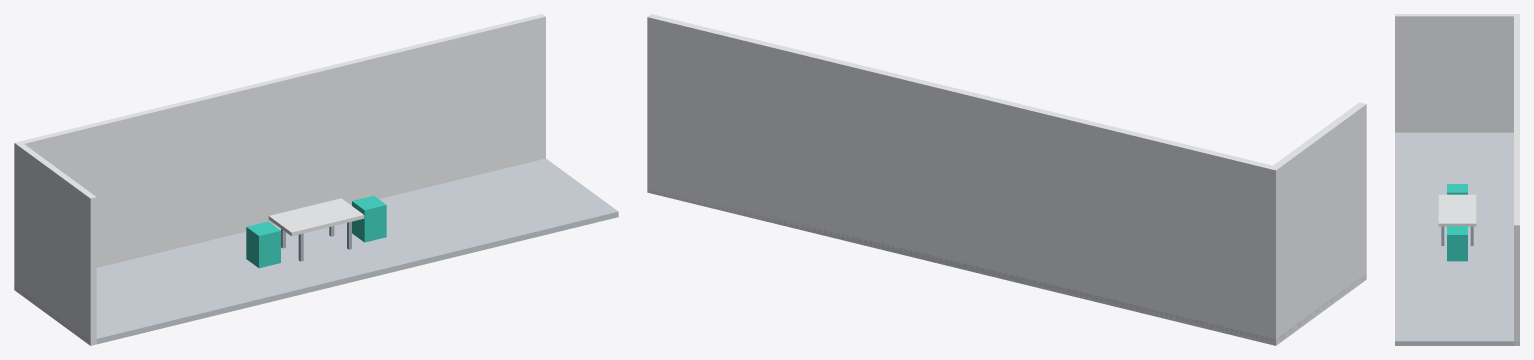
3 views of the same model, side by side, from view 1: azimuth 30°, elevation 25°; view 2: azimuth 150°, elevation 25°; view 3: azimuth 270°, elevation 25° (orthographic). The views are drawn at different scales.
Visible parts, largest first — view 1: Exhibition Booth Concept; view 2: Exhibition Booth Concept; view 3: Exhibition Booth Concept.
Part boxes in pixels (x1=…): Exhibition Booth Concept: x1=14, y1=14, x2=618, y2=345; Exhibition Booth Concept: x1=647, y1=14, x2=1366, y2=345; Exhibition Booth Concept: x1=1395, y1=14, x2=1519, y2=345.
Bounding box in the file's own units: 12 × 3.2 × 3.
